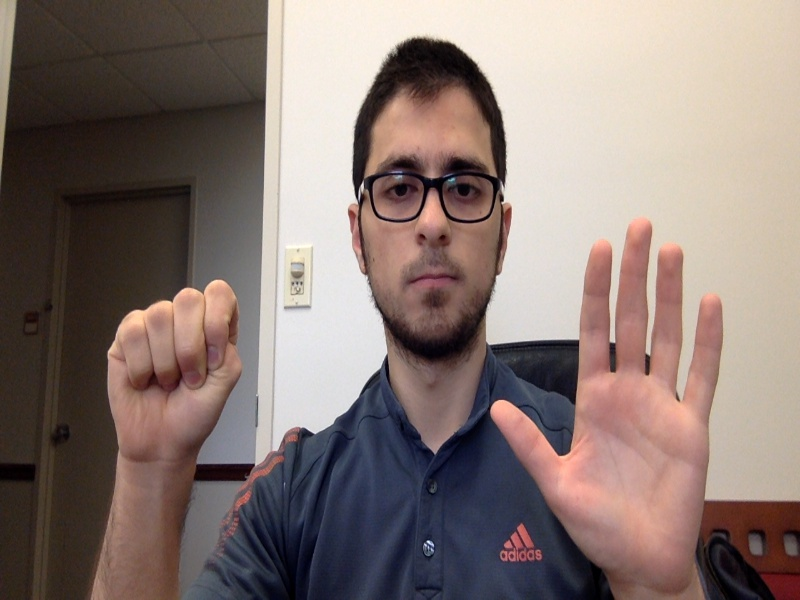0-hand: (108, 279, 242, 457)
5-hand: (489, 220, 724, 576)
